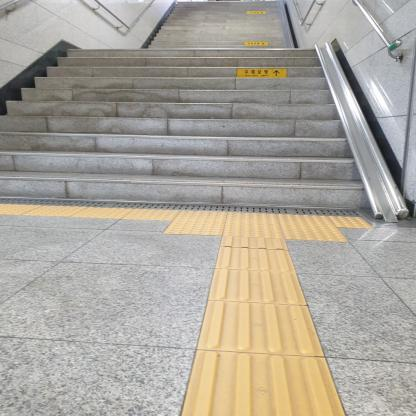go: (180, 350, 347, 416), (196, 300, 325, 357), (208, 268, 309, 307), (215, 246, 296, 273)
stop: (280, 225, 348, 242), (222, 223, 285, 239), (162, 220, 225, 236), (20, 205, 89, 217), (277, 214, 337, 227), (70, 207, 135, 219), (225, 212, 280, 225), (173, 210, 228, 223), (120, 209, 181, 220), (327, 216, 374, 229)
